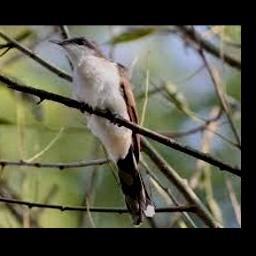Cuckoo: (48, 36, 156, 227)
